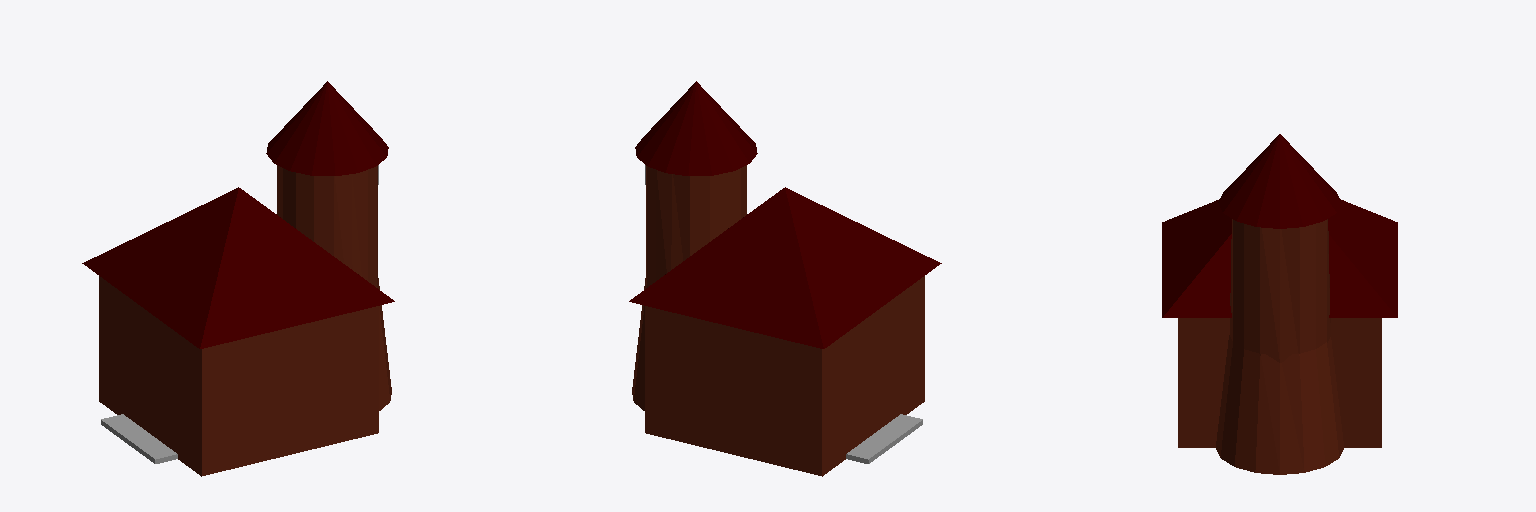
Rendered from smallchurch-4.obj.
3 renders of one model, left to right at view 1: azimuth 30°, elevation 25°; view 2: azimuth 150°, elevation 25°; view 3: azimuth 270°, elevation 25°, orthographic.
Parts seen in each view (by area): view 1: house_wall, house_roof, tower_roof, tower_tubus_3, tower_tubus_2, stair4, base_tower; view 2: house_wall, house_roof, tower_roof, tower_tubus_3, tower_tubus_2, stair4, base_tower; view 3: house_roof, base_tower, house_wall, tower_roof, tower_tubus_3, tower_tubus_2.
Part boxes in pixels (x1,y1,x2,y2): house_wall: (99,276,378,476); house_roof: (82,187,394,348); tower_roof: (266,81,388,175); tower_tubus_3: (277,165,377,286); tower_tubus_2: (334,170,367,280); stair4: (101,414,177,463); base_tower: (376,278,391,410); house_wall: (645,276,924,476); house_roof: (629,187,941,348); tower_roof: (635,81,757,175); tower_tubus_3: (646,165,746,286); tower_tubus_2: (656,170,689,280); stair4: (846,414,922,463); base_tower: (632,278,647,410); house_roof: (1162,199,1397,317); base_tower: (1216,335,1343,474); house_wall: (1178,318,1381,447); tower_roof: (1218,134,1341,228); tower_tubus_3: (1233,220,1326,353); tower_tubus_2: (1230,219,1330,362).
Size of the model in its own units: 9.22 by 10.83 by 7.34.